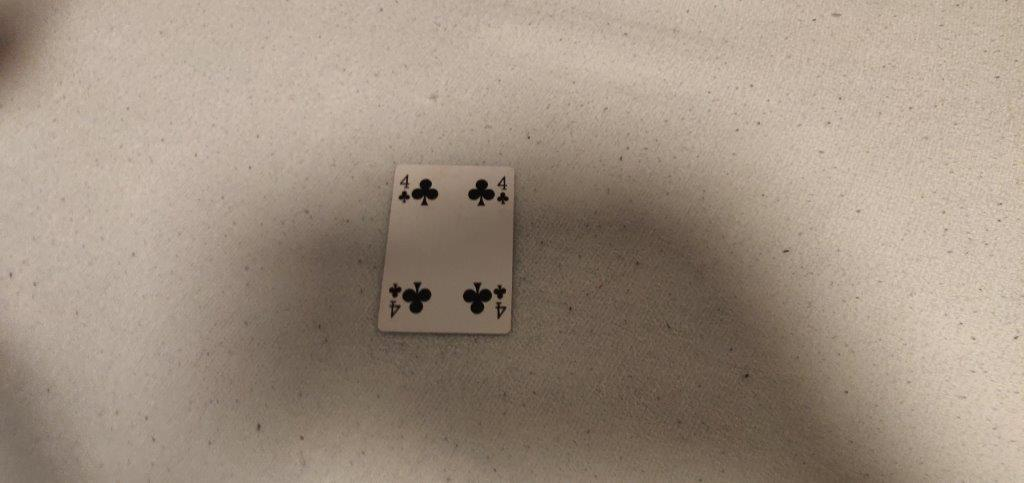4C: (394, 170, 413, 208), (495, 173, 512, 207)
